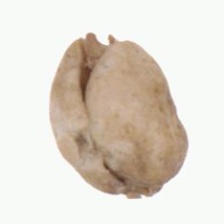L1: (72, 32, 127, 92), (108, 174, 165, 199)
L2: (49, 33, 189, 199)
